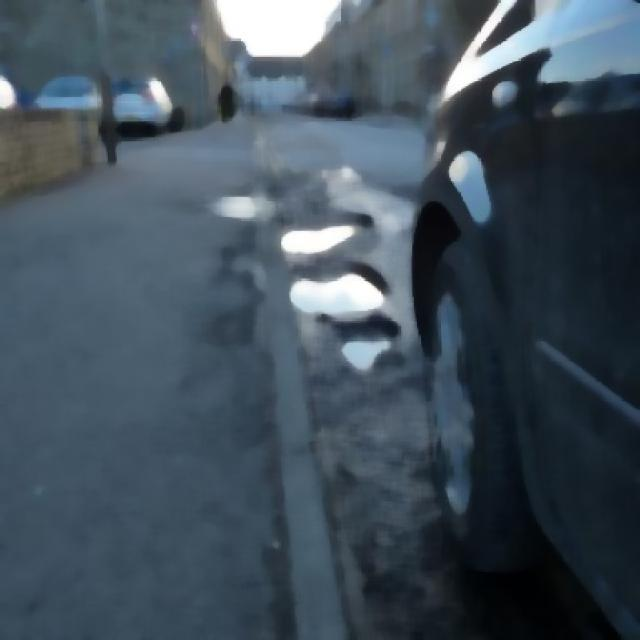Pothole: (288, 265, 394, 329), (278, 199, 378, 261)
